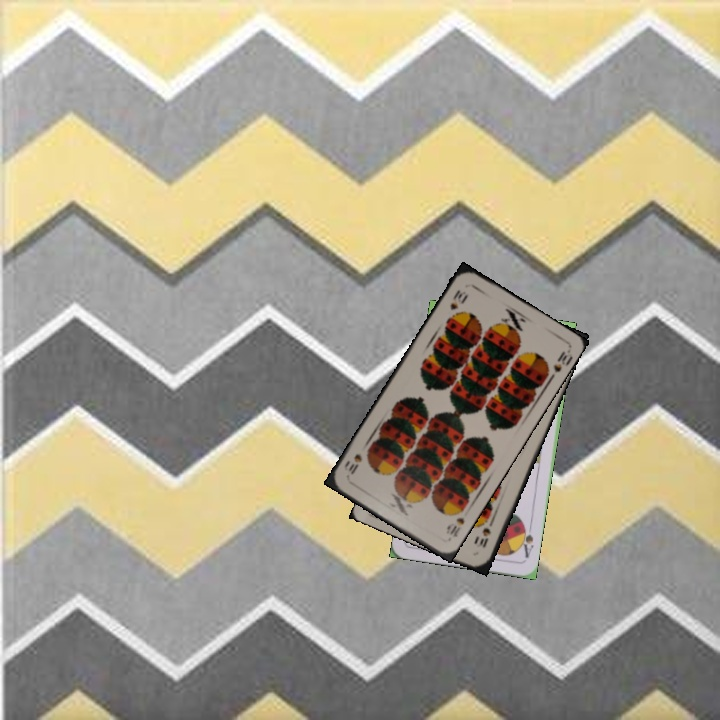S10: (442, 504, 467, 541), (472, 516, 496, 551), (446, 286, 470, 313)
SA: (516, 520, 536, 560)
